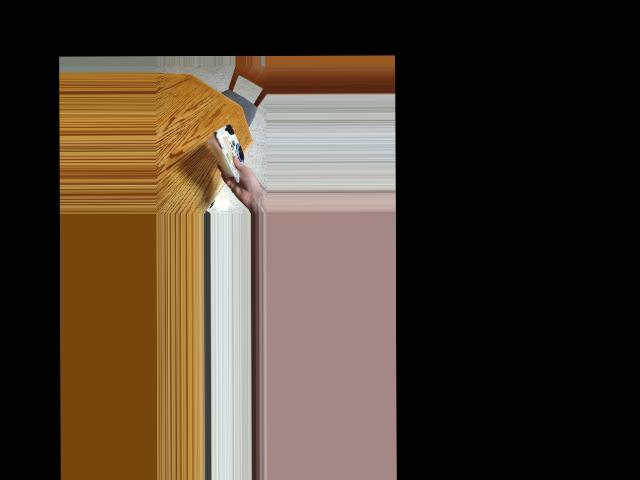cheese: (208, 127, 253, 174)
